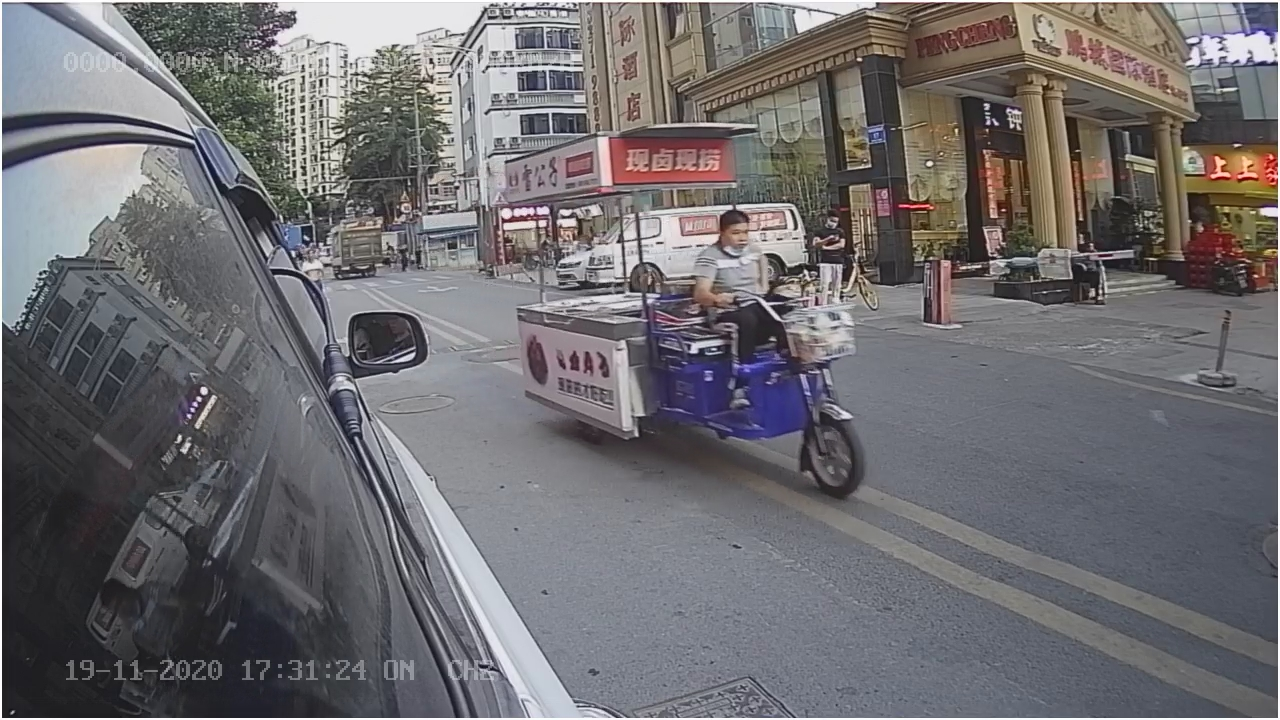person: (687, 217, 784, 283)
